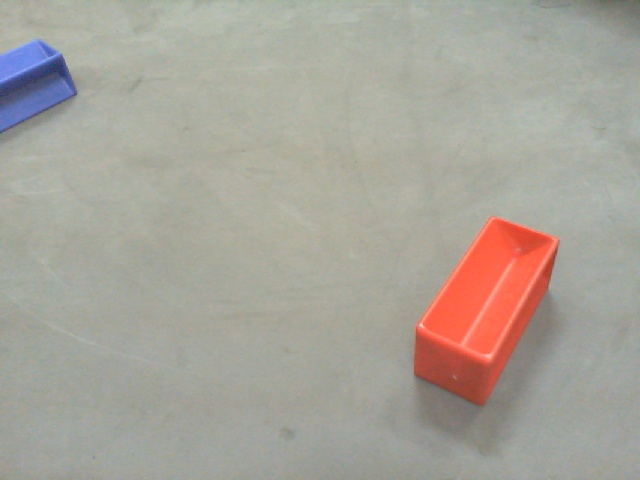BlueSample: (1, 37, 77, 131)
RedSample: (410, 212, 563, 413)
